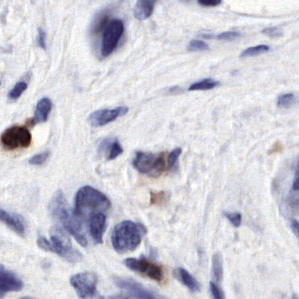Lymphocyte: (2, 124, 33, 151)
